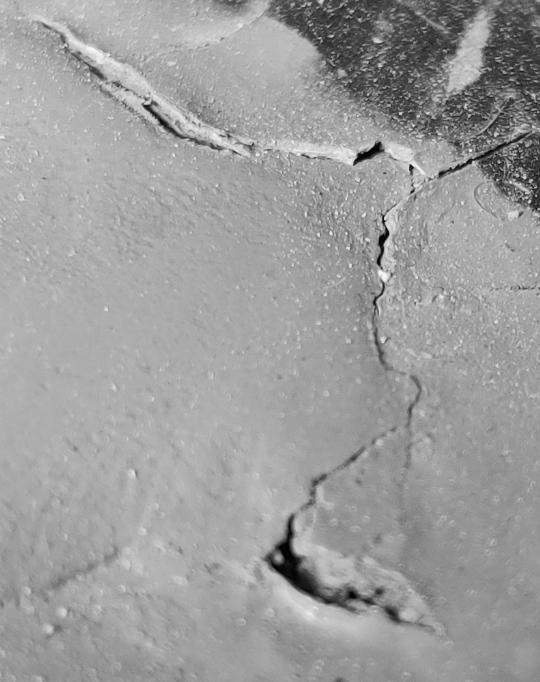crack: (1, 0, 540, 682)
